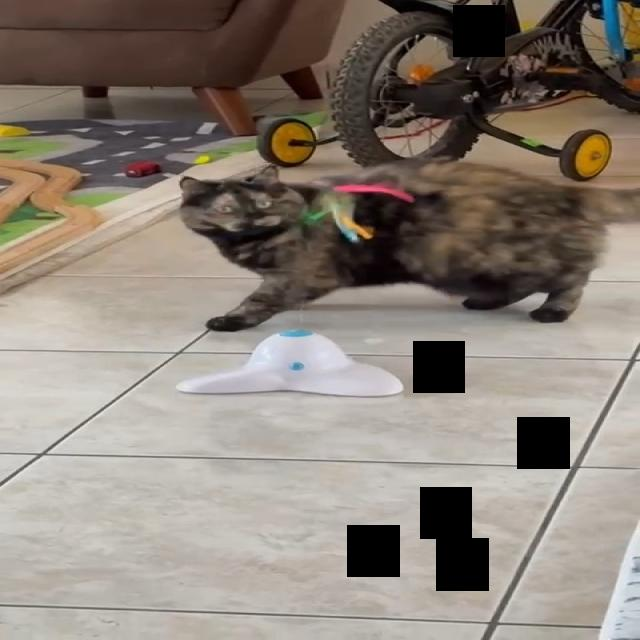authorized: (176, 158, 639, 332)
